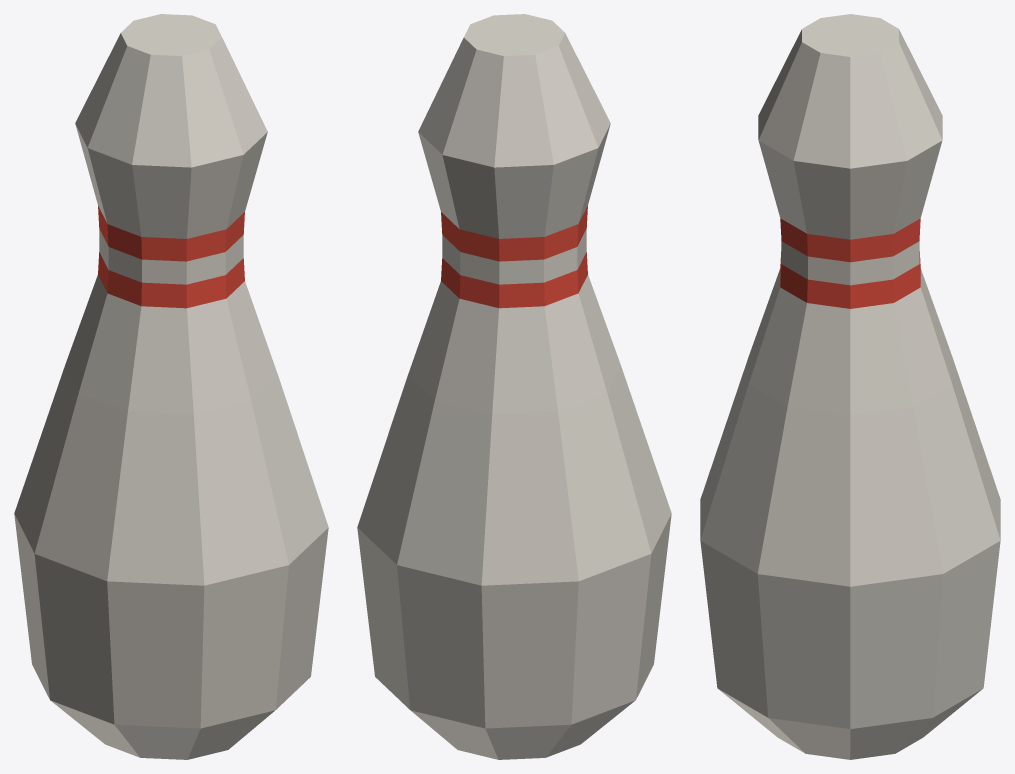
Rendered from bowling_pin.glb.
The picture shows the model from 3 angles, left to right: view 1: azimuth 30°, elevation 25°; view 2: azimuth 150°, elevation 25°; view 3: azimuth 270°, elevation 25°; orthographic projection.
Parts seen in each view (by area): view 1: bowling_pin; view 2: bowling_pin; view 3: bowling_pin.
Part boxes in pixels (<box>): bowling_pin: <box>14,14,328,759</box>; bowling_pin: <box>357,14,671,759</box>; bowling_pin: <box>700,14,1000,759</box>.
Bounding box in the file's own units: 1.24 × 3 × 1.18.
